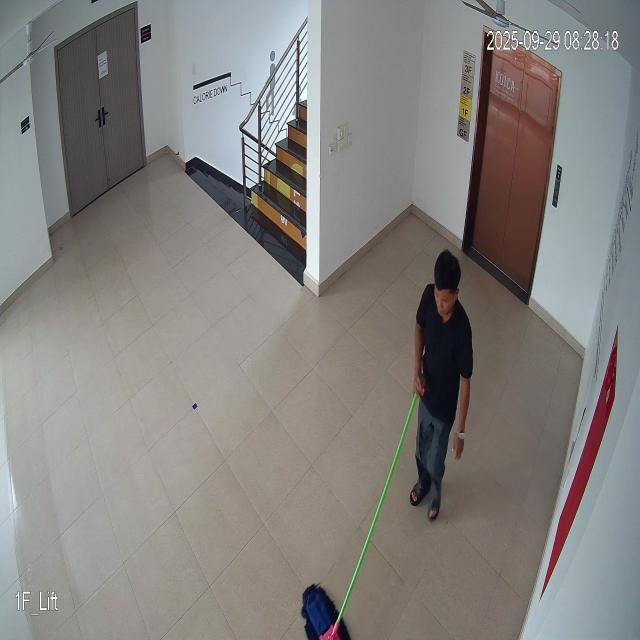face: (430, 247, 466, 323)
